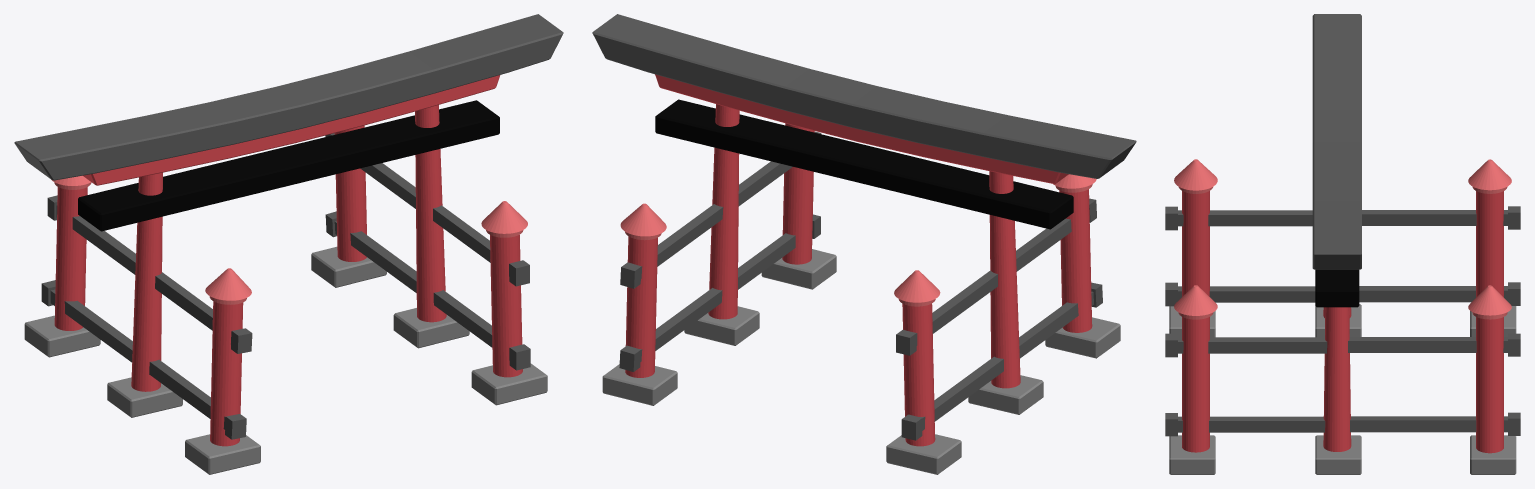
Rendered from gateblend.fbx.
The picture shows the model from 3 angles, left to right: view 1: azimuth 30°, elevation 25°; view 2: azimuth 150°, elevation 25°; view 3: azimuth 270°, elevation 25°; orthographic projection. The views are drawn at different scales.
Visible parts, largest first — view 1: Cylinder; view 2: Cylinder; view 3: Cylinder.
Boxes of the visible parts, bbox=[...] form: Cylinder: bbox=[14, 14, 563, 474]; Cylinder: bbox=[592, 14, 1136, 474]; Cylinder: bbox=[1165, 14, 1520, 474].
Bounding box in the file's own units: 4035 × 2074 × 2523.
